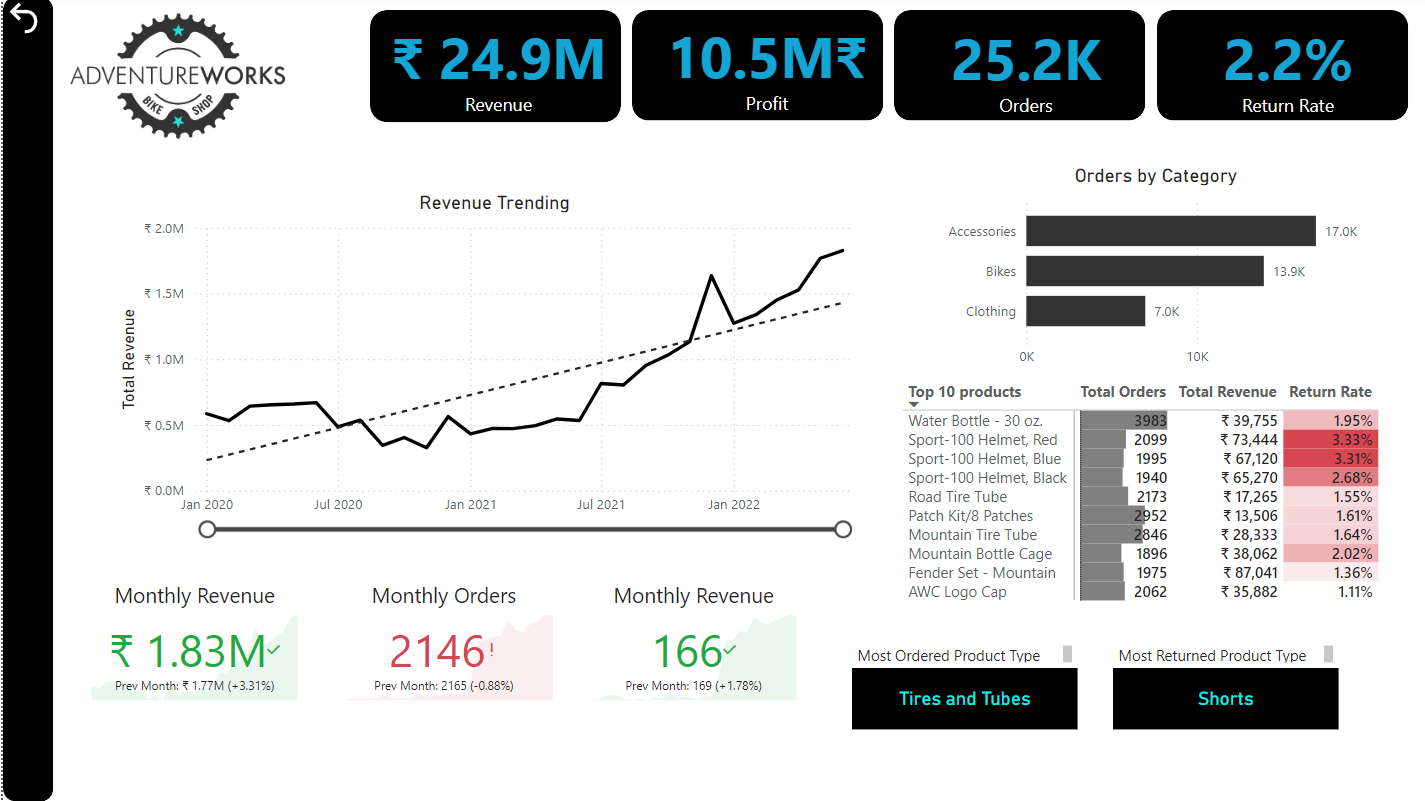

This screenshot's page, from the dashboard's own definition file:
{"tool":"powerbi","page":{"name":"Exec dash","canvas":[1280,720],"ordinal":0},"visuals":[{"type":"image","title":"AW logo","box":[34,1.8,246.3,137],"z":0},{"type":"shape","box":[328.7,11.6,224.7,100.5],"z":0,"group":"g1"},{"type":"shape","title":"Left nav background","box":[0,0,45,720.4],"z":1000},{"type":"shape","box":[563.4,11.6,225,99.1],"z":1000,"group":"g1"},{"type":"group","id":"g1","title":"KPI","box":[328.7,11.6,929.5,100.5],"z":2000},{"type":"shape","box":[1033.2,11.6,225,99.1],"z":2000,"group":"g1"},{"type":"shape","box":[798.3,11.6,225,99.1],"z":3000,"group":"g1"},{"type":"group","id":"g2","title":"KPI Values","box":[330.5,11.8,938.7,101.1],"z":3000},{"type":"card","fields":{"Values":["Measure Table.Total Revenue"]},"box":[330.5,12.7,226.6,99.4],"z":3000,"group":"g2"},{"type":"card","fields":{"Values":["Measure Table.Total Profit"]},"box":[565.1,11.8,238.2,99.4],"z":4000,"group":"g2"},{"type":"lineChart","title":"Revenue Trending","fields":{"Y":["Measure Table.Total Revenue"],"Category":["Calendar Lookup.Year","Calendar Lookup.Start of Quarter","Calendar Lookup.Start of Month"]},"box":[99.4,173.7,681.5,314.3],"z":4000},{"type":"card","fields":{"Values":["Measure Table.Return Rate"]},"box":[1031.7,13.6,238.2,99.4],"z":5000,"group":"g2"},{"type":"kpi","title":"Monthly Revenue","fields":{"Indicator":["Measure Table.Total Revenue"],"TrendLine":["Calendar Lookup.Start of Month"],"Goal":["Measure Table.Previous Month Revenue"]},"box":[74.6,523.1,194.5,111.9],"z":5000},{"type":"card","fields":{"Values":["Measure Table.Total Orders"]},"box":[797.1,13.6,238.2,99.4],"z":6000,"group":"g2"},{"type":"kpi","title":"Monthly Revenue","fields":{"TrendLine":["Calendar Lookup.Start of Month"],"Indicator":["Measure Table.Total Returns"],"Goal":["Measure Table.Previous Month Returns"]},"box":[521.1,523.1,194.5,111.9],"z":6000},{"type":"kpi","title":"Monthly Orders","fields":{"TrendLine":["Calendar Lookup.Start of Month"],"Indicator":["Measure Table.Total Orders"],"Goal":["Measure Table.Previous Month Orders"]},"box":[292.3,523.1,205.6,111.9],"z":7000},{"type":"clusteredBarChart","title":"Orders by Category","fields":{"Category":["Product Categories Lookup.CategoryName"],"Y":["Measure Table.Total Orders"]},"box":[836.7,149.1,392.3,190.1],"z":8000},{"type":"pivotTable","fields":{"Rows":["Product Lookup.ProductName"],"Values":["Measure Table.Total Orders","Measure Table.Total Revenue","Measure Table.Return Rate"]},"box":[800.3,339.7,438.4,207.6],"z":9000},{"type":"card","fields":{"Values":["Min(Product Subcategories Lookup.SubcategoryName)"]},"box":[760.6,600.5,202.2,55],"z":10000},{"type":"textbox","box":[760.6,575.4,202.2,25],"z":11000},{"type":"card","fields":{"Values":["Min(Product Subcategories Lookup.SubcategoryName)"]},"box":[993.8,600.5,202.2,55],"z":12000},{"type":"textbox","box":[993.8,575.4,202.2,25],"z":13000},{"type":"actionButton","box":[0,0,45.5,37.3],"z":13001}]}

Visuals, with their boxes in screenshot pixels (x1, y1, x2, y2), scaled from the page's 1280x720 canvas onto the 1425x801 screenshot:
"AW logo" image: [x1=38, y1=2, x2=312, y2=154]
shape: [x1=366, y1=13, x2=616, y2=125]
"Left nav background" shape: [x1=0, y1=0, x2=50, y2=800]
shape: [x1=627, y1=13, x2=878, y2=123]
"KPI" group: [x1=366, y1=13, x2=1401, y2=125]
shape: [x1=1150, y1=13, x2=1401, y2=123]
shape: [x1=889, y1=13, x2=1139, y2=123]
"KPI Values" group: [x1=368, y1=13, x2=1413, y2=126]
card - Measure Table.Total Revenue: [x1=368, y1=14, x2=620, y2=125]
card - Measure Table.Total Profit: [x1=629, y1=13, x2=894, y2=124]
"Revenue Trending" lineChart: [x1=111, y1=193, x2=869, y2=543]
card - Measure Table.Return Rate: [x1=1149, y1=15, x2=1414, y2=126]
"Monthly Revenue" kpi: [x1=83, y1=582, x2=300, y2=706]
card - Measure Table.Total Orders: [x1=887, y1=15, x2=1153, y2=126]
"Monthly Revenue" kpi: [x1=580, y1=582, x2=797, y2=706]
"Monthly Orders" kpi: [x1=325, y1=582, x2=554, y2=706]
"Orders by Category" clusteredBarChart: [x1=931, y1=166, x2=1368, y2=377]
pivotTable - Product Lookup.ProductName x Measure Table.Total Orders: [x1=891, y1=378, x2=1379, y2=609]
card - Min(Product Subcategories Lookup.SubcategoryName): [x1=847, y1=668, x2=1072, y2=729]
textbox: [x1=847, y1=640, x2=1072, y2=668]
card - Min(Product Subcategories Lookup.SubcategoryName): [x1=1106, y1=668, x2=1331, y2=729]
textbox: [x1=1106, y1=640, x2=1331, y2=668]
actionButton: [x1=0, y1=0, x2=51, y2=41]
